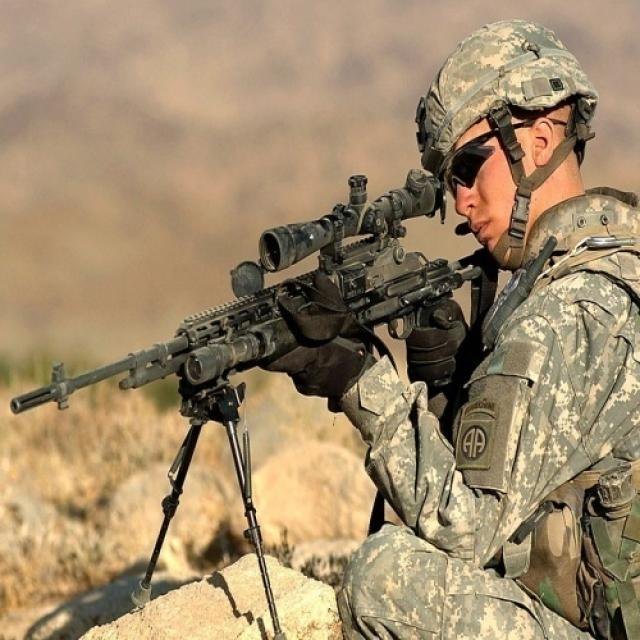Gun: (18, 172, 512, 478)
